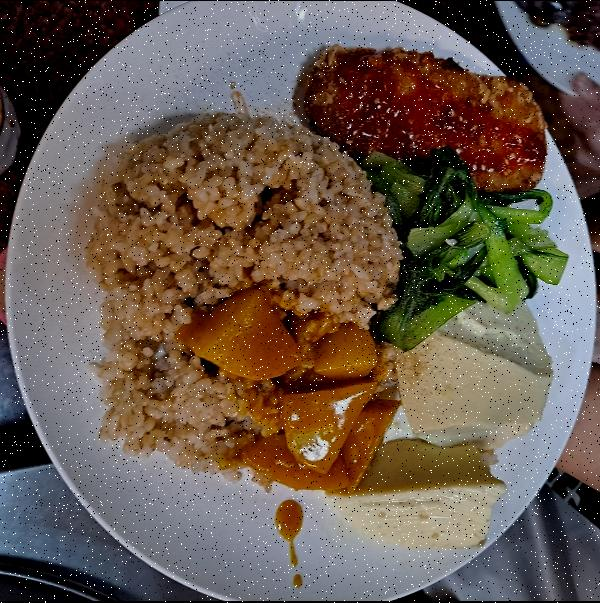brown rice: (82, 127, 397, 476)
plate: (3, 4, 592, 596)
side dish: (366, 298, 550, 542), (195, 302, 390, 498), (375, 166, 564, 318)
sweet and spicy chicken steak: (302, 34, 552, 195)
